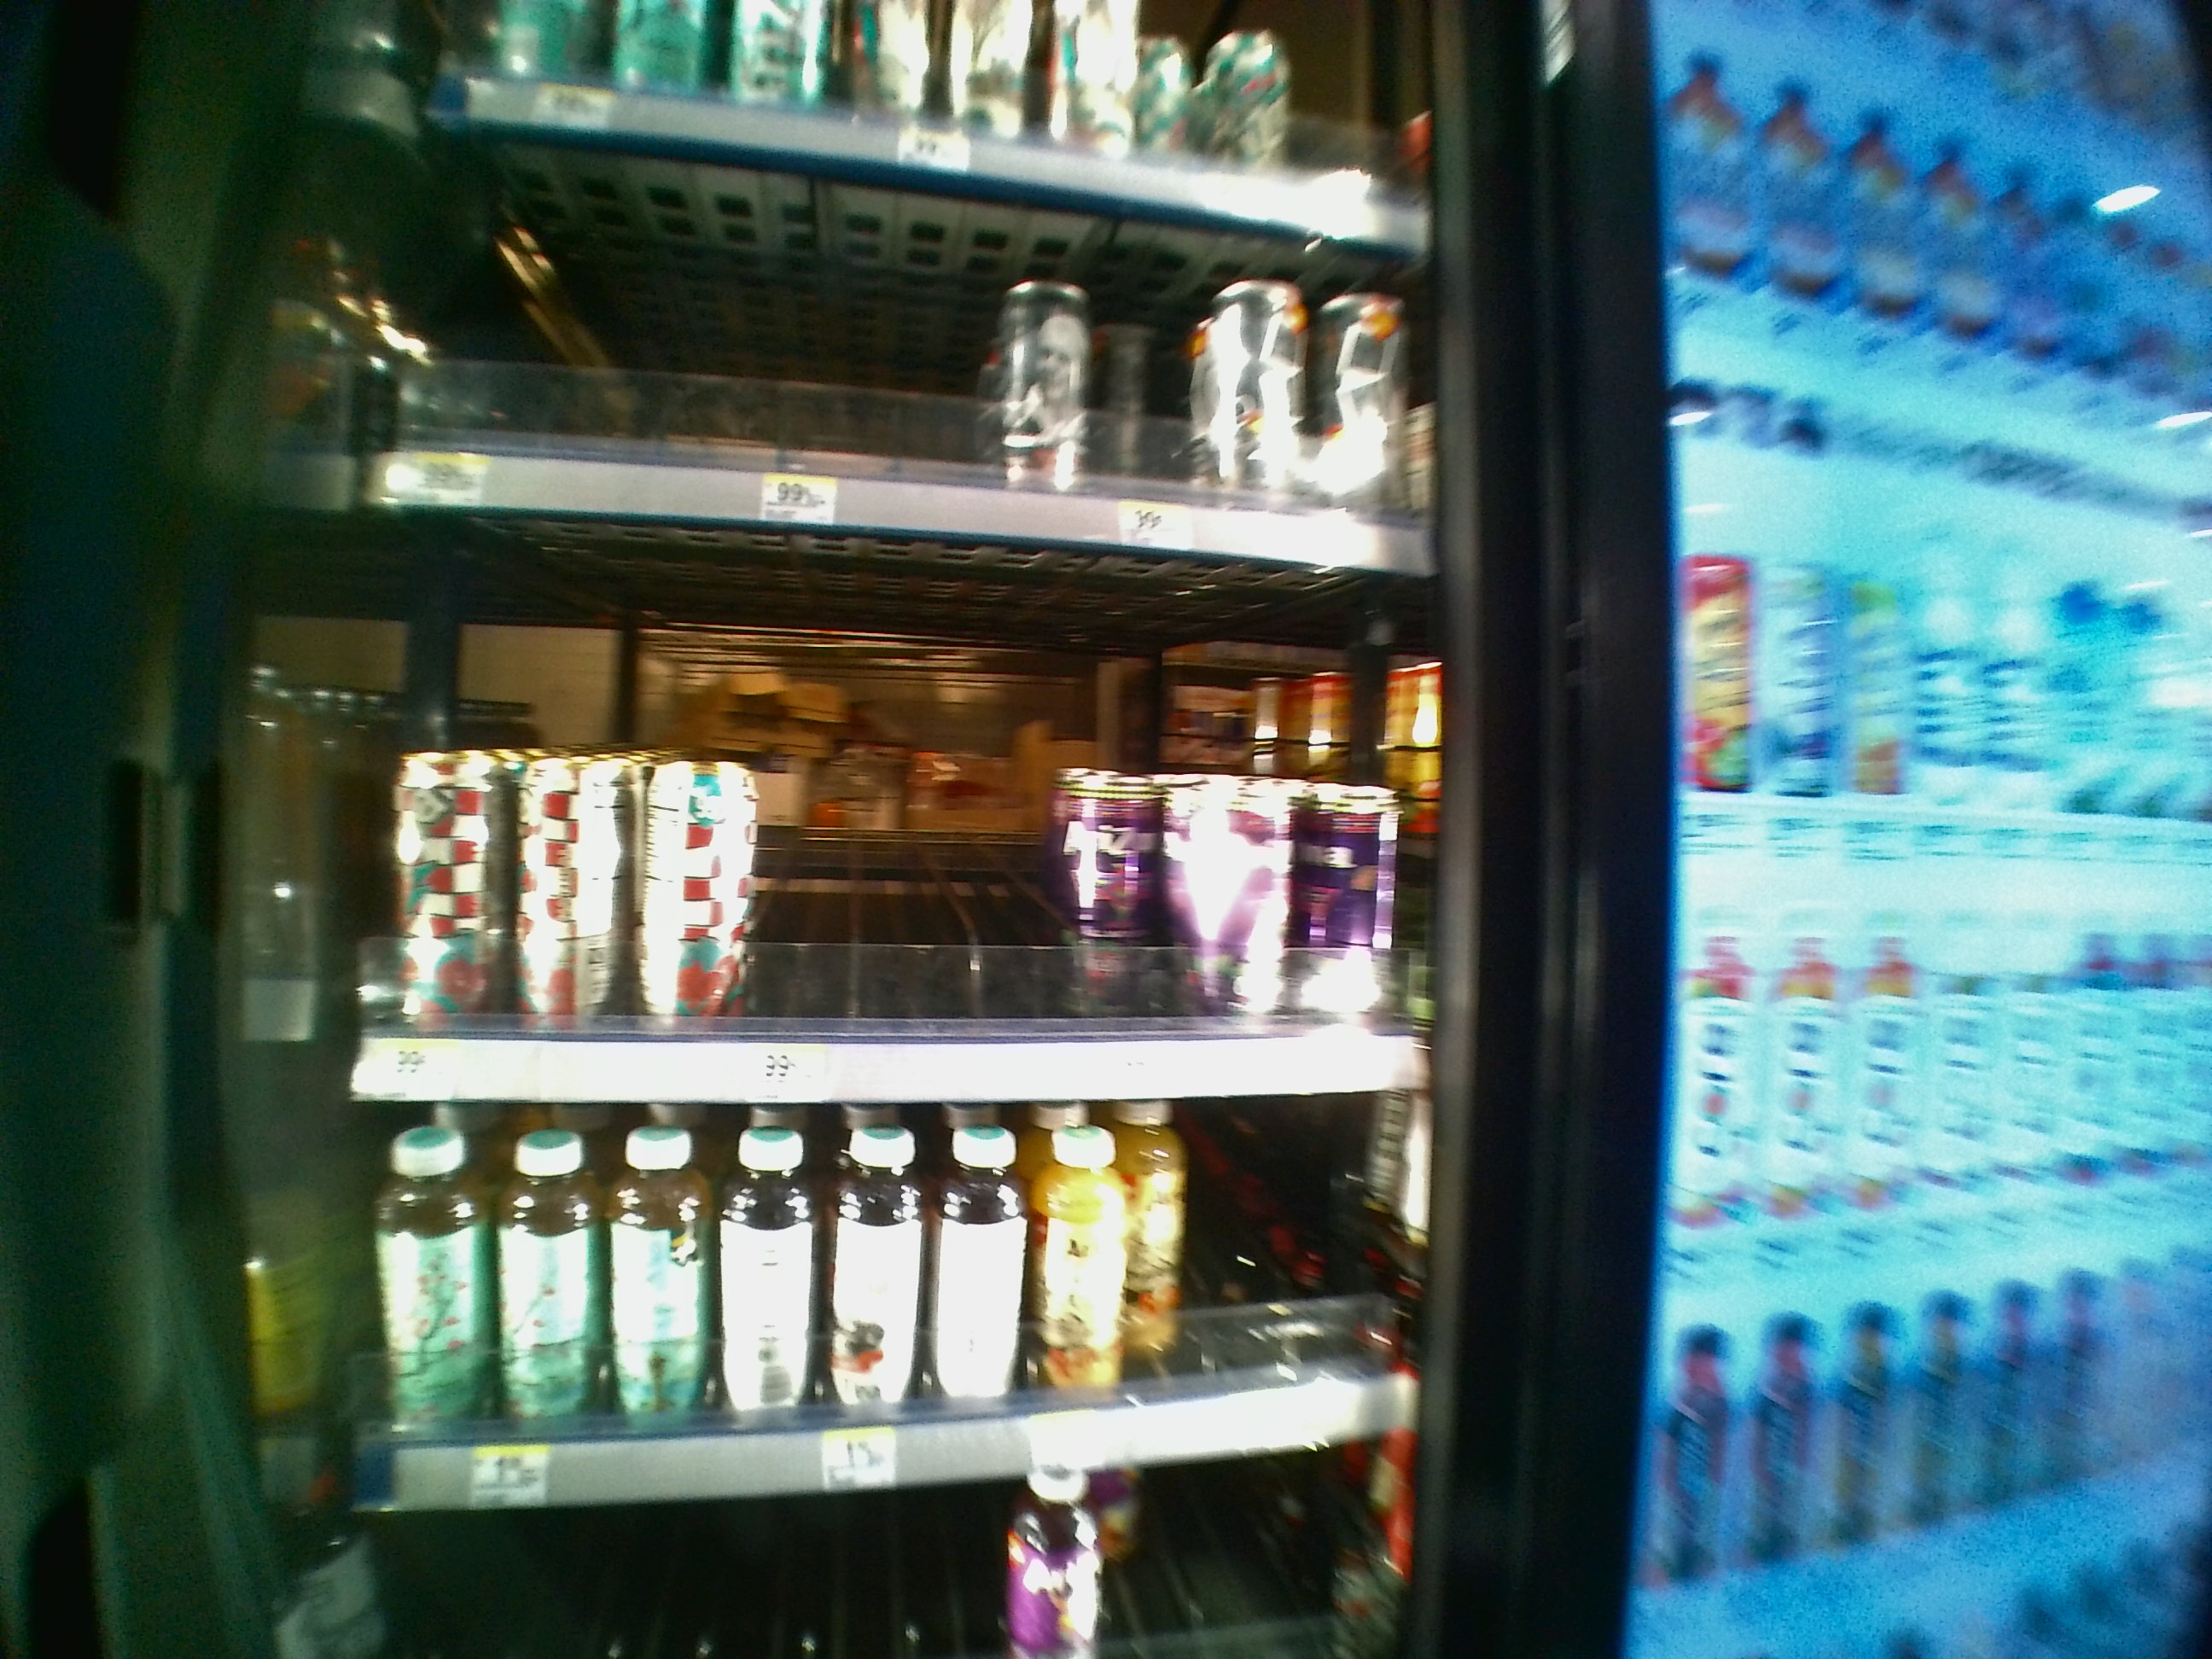shelf: (355, 502, 1423, 1100)
